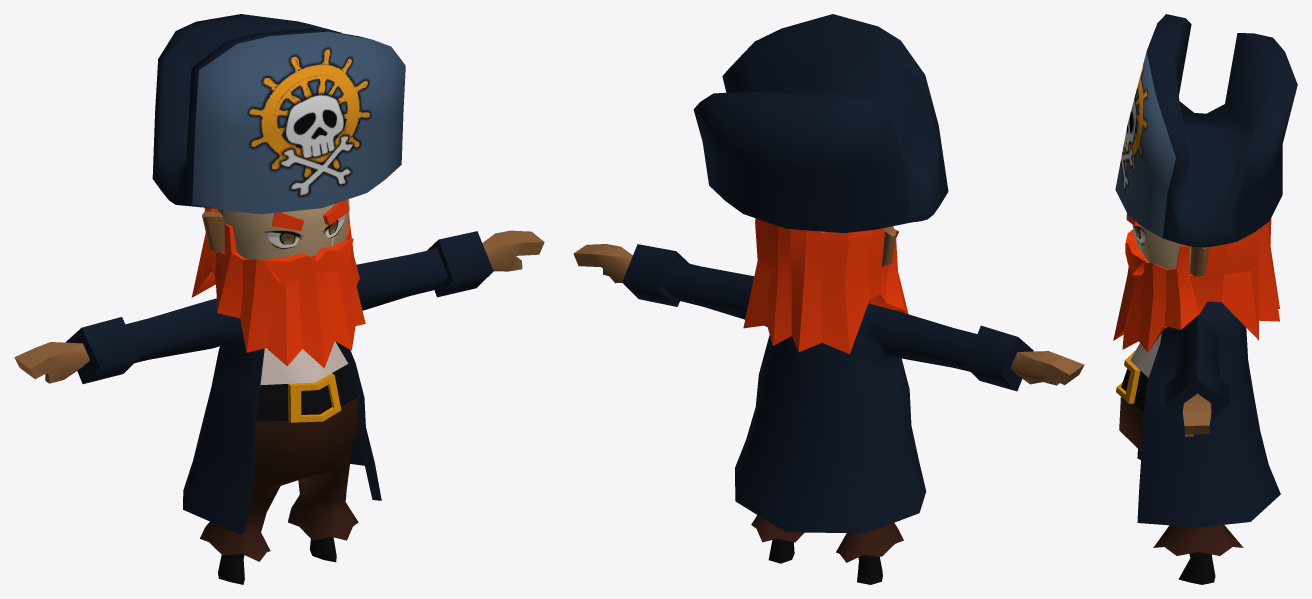
Rendered from RedBeard.FBX.
3 renders of one model, left to right at view 1: azimuth 30°, elevation 25°; view 2: azimuth 150°, elevation 25°; view 3: azimuth 270°, elevation 25°, orthographic. The views are drawn at different scales.
Visible parts, largest first — view 1: Redhead_Beard; view 2: Redhead_Beard; view 3: Redhead_Beard.
Boxes of the visible parts, x1,y1,x2,y2 form: Redhead_Beard: [14, 14, 544, 584]; Redhead_Beard: [573, 14, 1084, 584]; Redhead_Beard: [1113, 14, 1297, 584].
Bounding box in the file's own units: 71.35 × 73 × 23.44.
